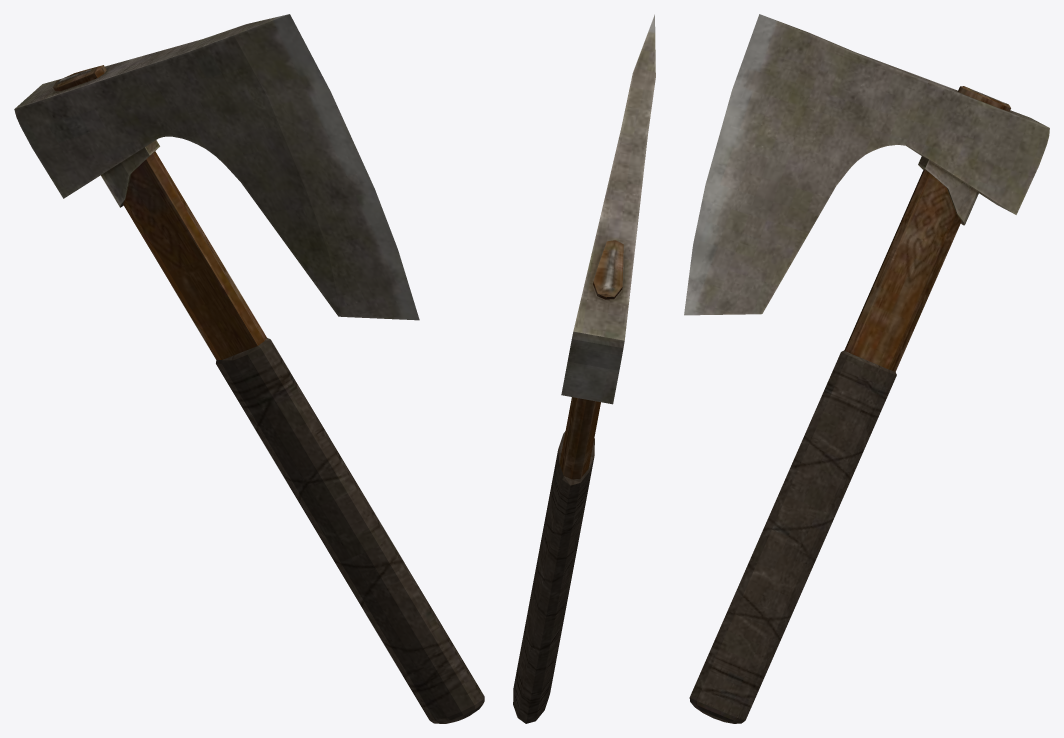
File: pyro-axethrow.glb
3 views of the same model, side by side, from view 1: azimuth 30°, elevation 25°; view 2: azimuth 150°, elevation 25°; view 3: azimuth 270°, elevation 25° (orthographic). The views are drawn at different scales.
Visible parts, largest first — view 1: geometry_0; view 2: geometry_0; view 3: geometry_0.
Boxes of the visible parts, bbox=[...] form: geometry_0: bbox=[14, 14, 484, 723]; geometry_0: bbox=[513, 14, 655, 723]; geometry_0: bbox=[684, 14, 1049, 723].
Size of the model in its own units: 0.5205 by 1.28 by 0.6541.
1 material, 1 textured.
